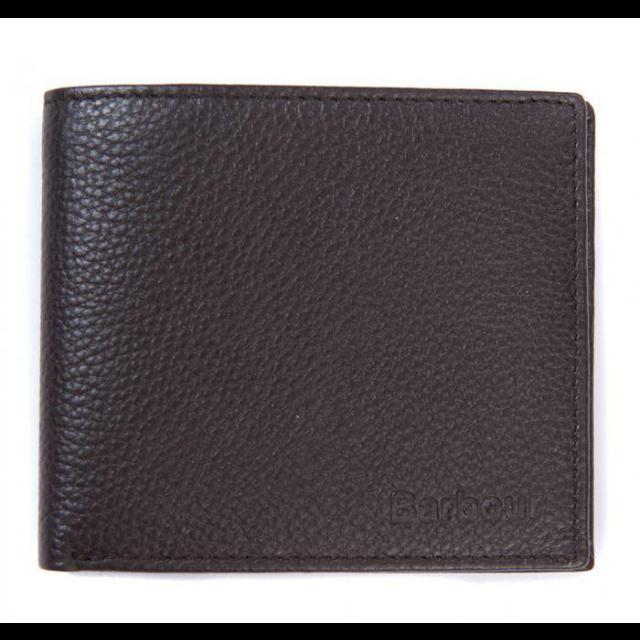wallet: (41, 82, 596, 570)
